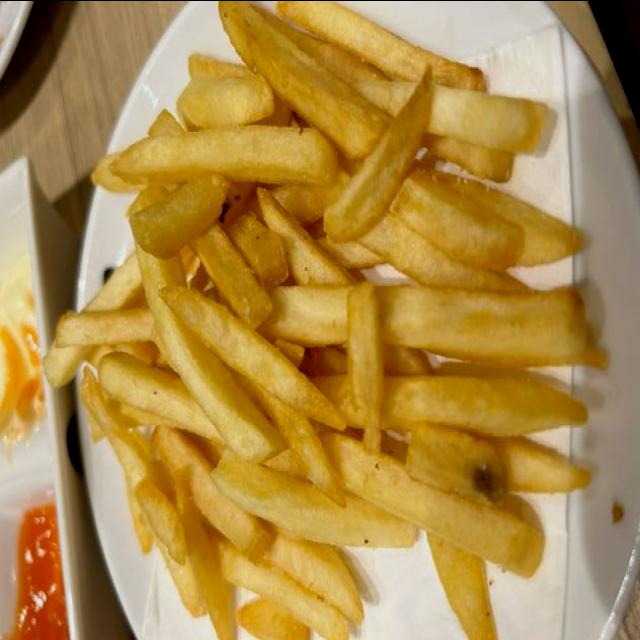kentang goreng: (44, 0, 608, 640)
